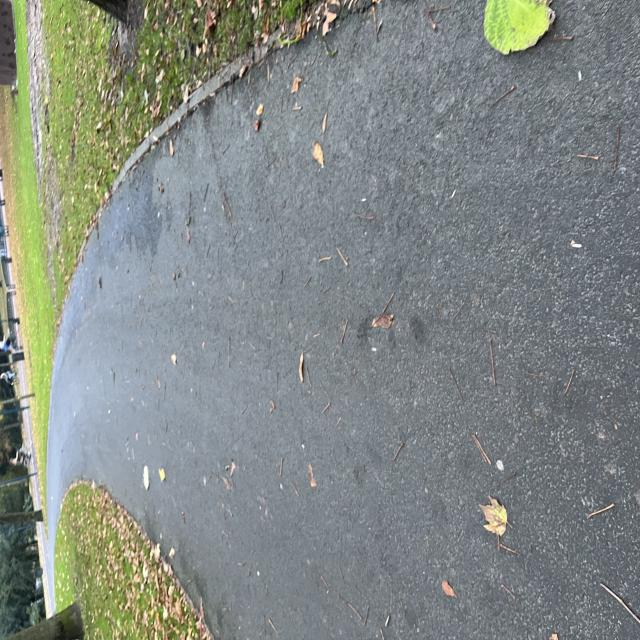pavement: (2, 292, 465, 640), (114, 100, 281, 286), (284, 144, 349, 270)
plants: (98, 1, 480, 429), (5, 74, 116, 263)
